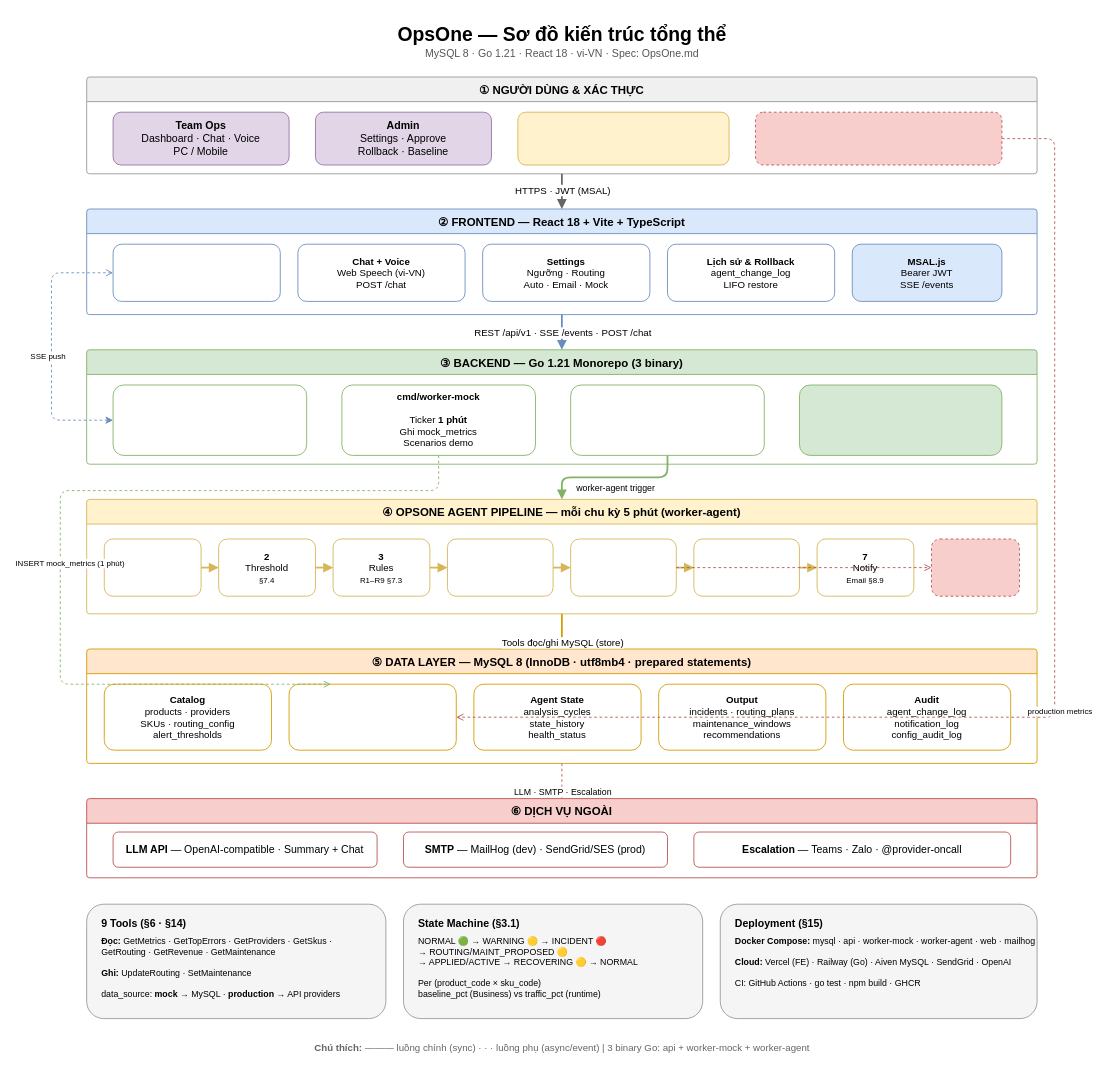
This 1107x1077 diagram has some shape labels left out. The shapes that lost their labels are listed below. From the top down, each one's centre as x and y in pixels, then its label:
point 623,138: Microsoft Entra ID O365 SSO · OIDC + PKCE Roles: Admin | Ops
point 878,138: Providers (production) ESALE · IMEDIA · SHOPPAY
point 196,272: Dashboard 🟢🟡🔴 HealthBadge Incident · Routing feed
point 209,419: cmd/api :8080 REST JSON · CORS JWT middleware SSE /events · Chat
point 667,419: cmd/worker-agent Scheduler 5 phút 11 products × scope Chạy pipeline §3
point 900,419: internal/ agent · tools · rules threshold · notify rollback · auth · store
point 152,567: 1 Thu thập 9 Tools §6
point 500,567: 4 State Machine §3.1
point 623,567: 5 Output 🟢🟡🔴 Incident Plan
point 746,567: 6 Action Routing / Maint.
point 975,567: LLM tóm tắt Rules trước
point 372,716: Metrics mock_metrics mock_error_stats metrics_snapshot
